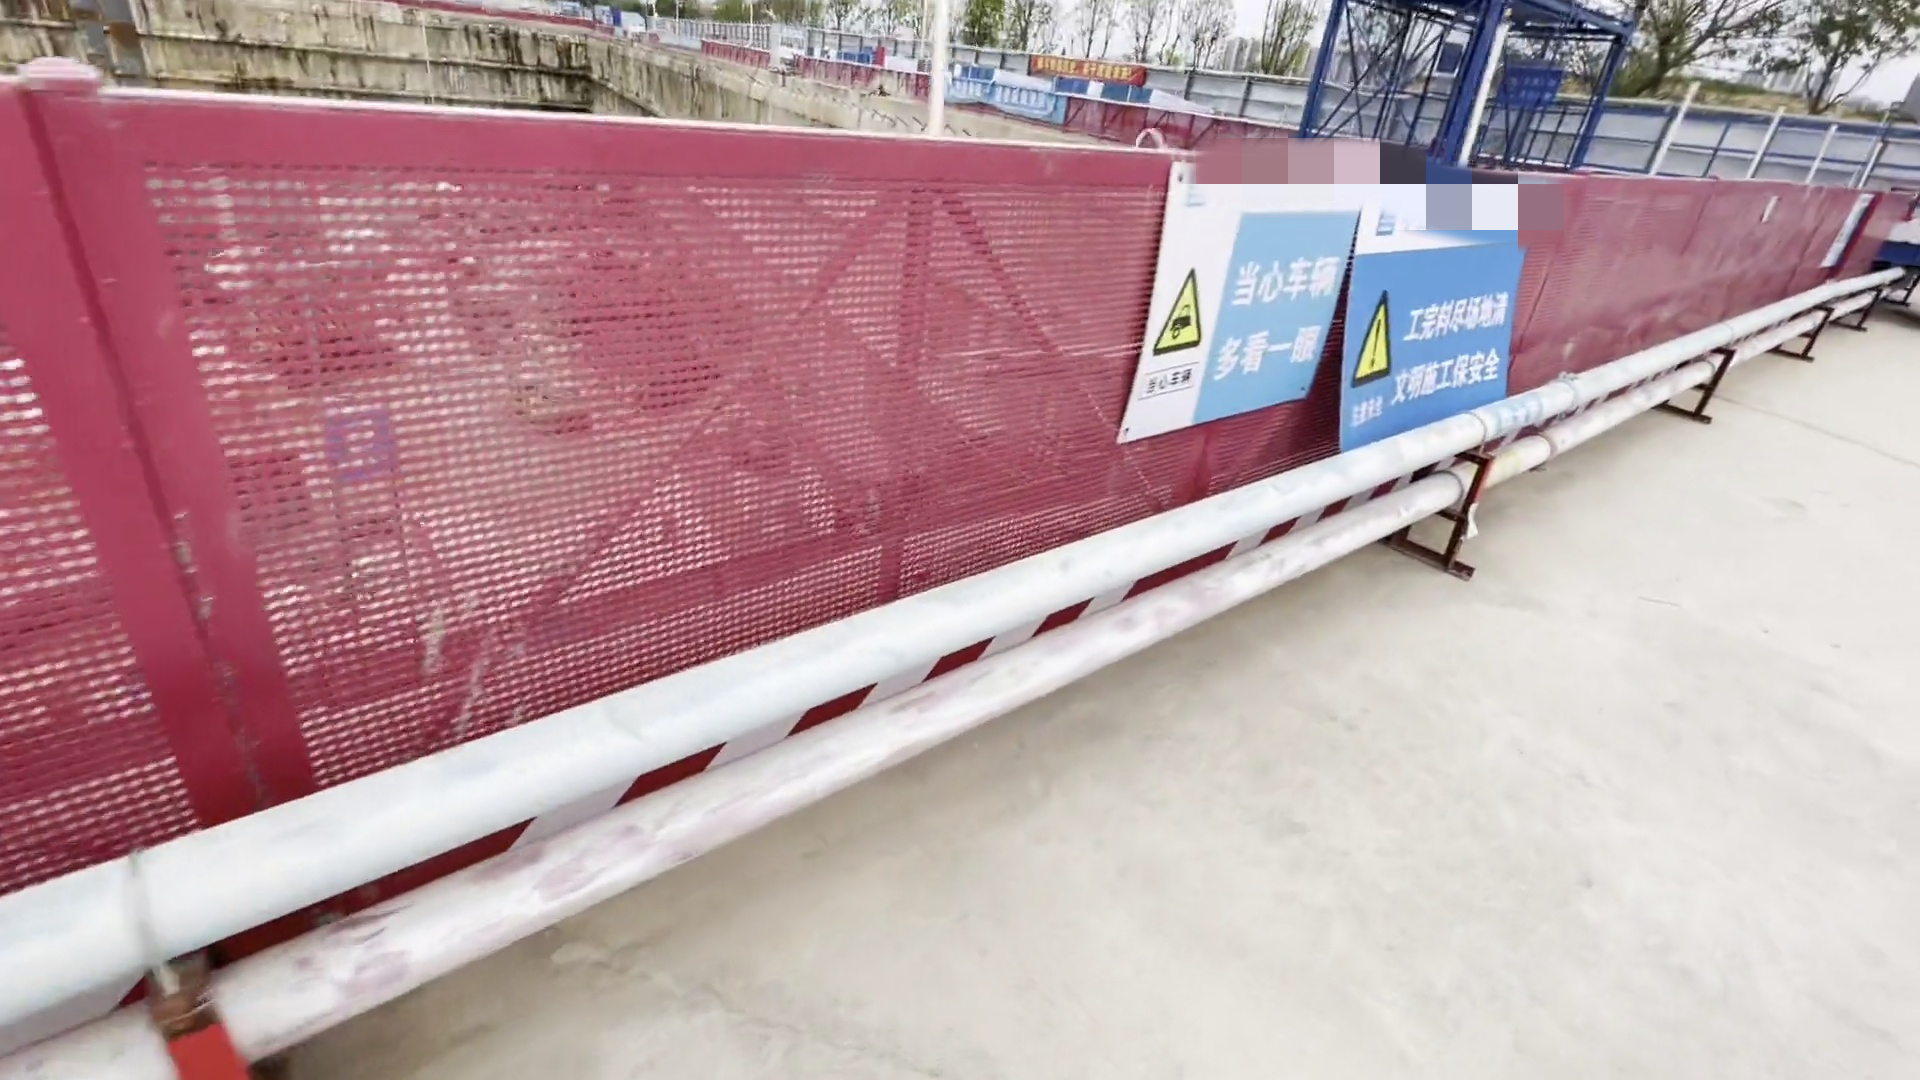fence: (1, 86, 1900, 914)
slogan: (1215, 247, 1323, 384), (1393, 297, 1531, 401), (1029, 47, 1145, 88), (938, 76, 1048, 117)
